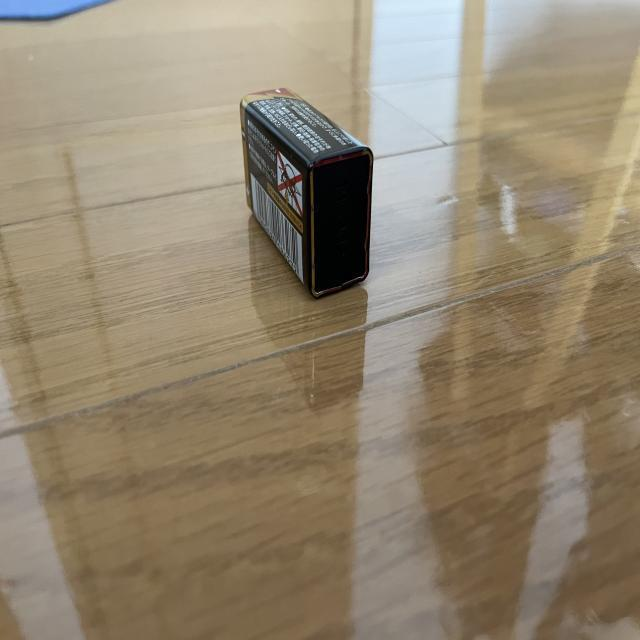9V: (239, 85, 376, 300)
